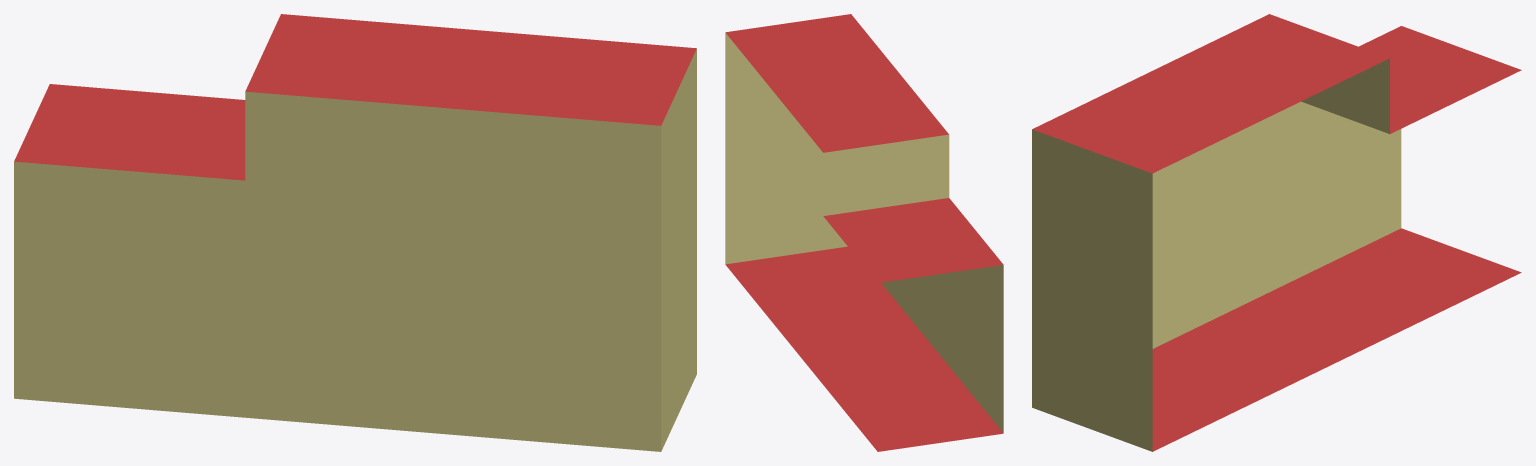
The picture shows the model from 3 angles, left to right: view 1: azimuth 30°, elevation 25°; view 2: azimuth 150°, elevation 25°; view 3: azimuth 270°, elevation 25°; orthographic projection. The views are drawn at different scales.
Bounding box in the file's own units: 14.15 × 13.1 × 8.21.
